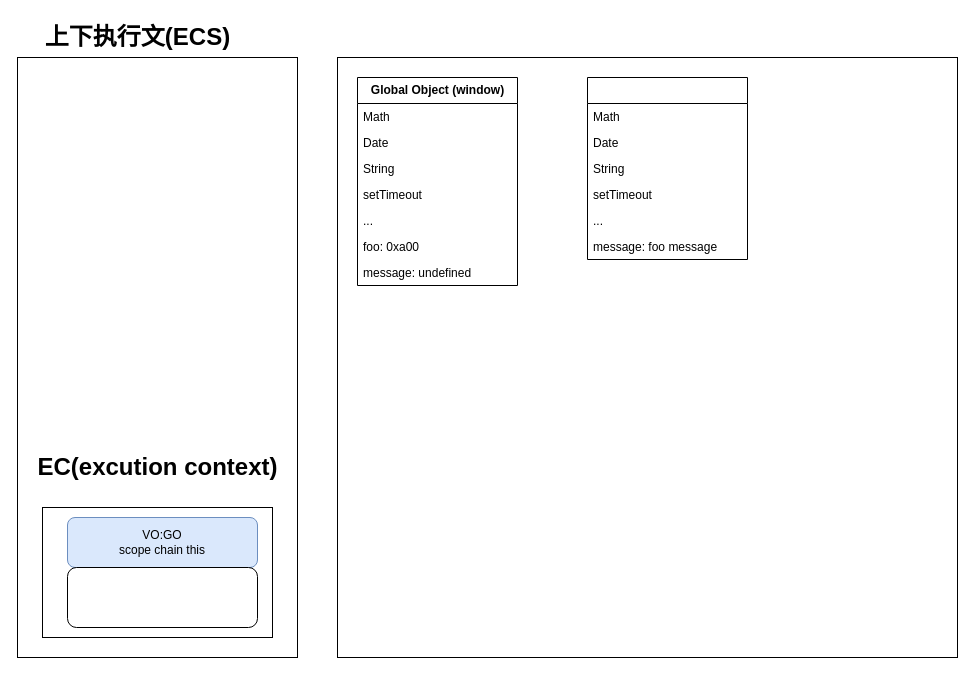
This 975x675 diagram has some shape labels left out. Here are the shapes that lost their labels. From the top down, the box of each, then its label:
(586, 76, 748, 260): function Object(0xa00)
(66, 566, 258, 628): console.log(message)
